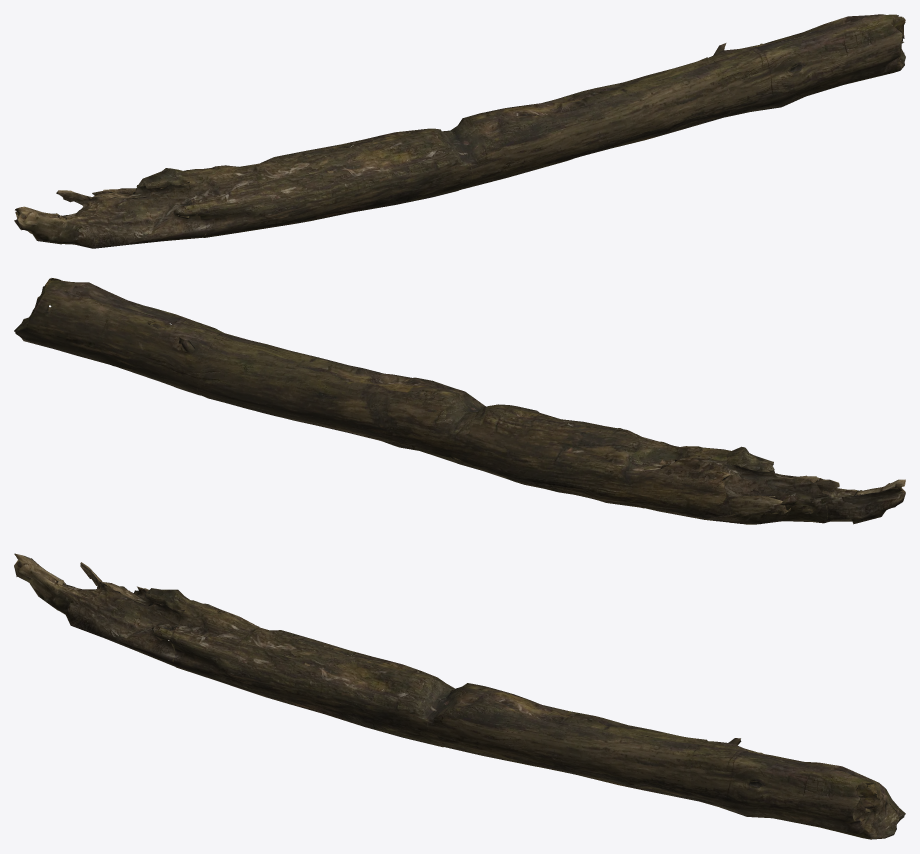
Rendered from dead_trunk.glb.
The picture shows the model from 3 angles, top to bottom: view 1: azimuth 30°, elevation 25°; view 2: azimuth 150°, elevation 25°; view 3: azimuth 330°, elevation 25°; orthographic projection.
Visible parts, largest first — view 1: dead_trunk; view 2: dead_trunk; view 3: dead_trunk.
Part boxes in pixels (x1,y1,x2,y2): dead_trunk: (14,14,905,248); dead_trunk: (14,278,905,524); dead_trunk: (14,553,905,839).
Size of the model in its own units: 3.05 by 0.288 by 0.2735.
Materials: 1 (1 with a texture image).
